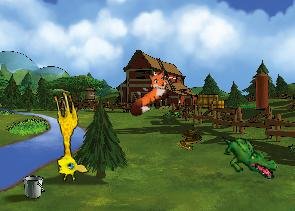crocodile: (216, 134, 281, 180)
fox: (117, 63, 179, 119)
giraffe: (41, 89, 90, 183)
